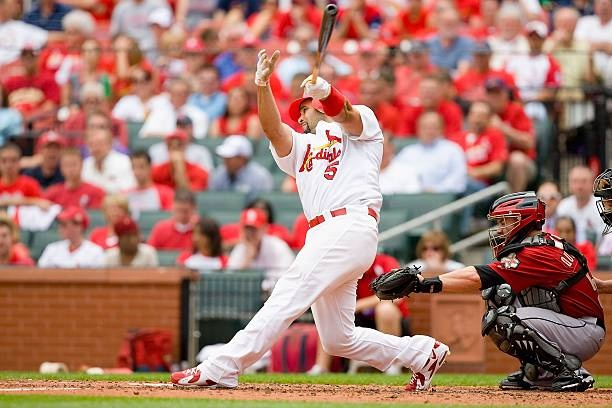bita: (311, 5, 340, 86)
